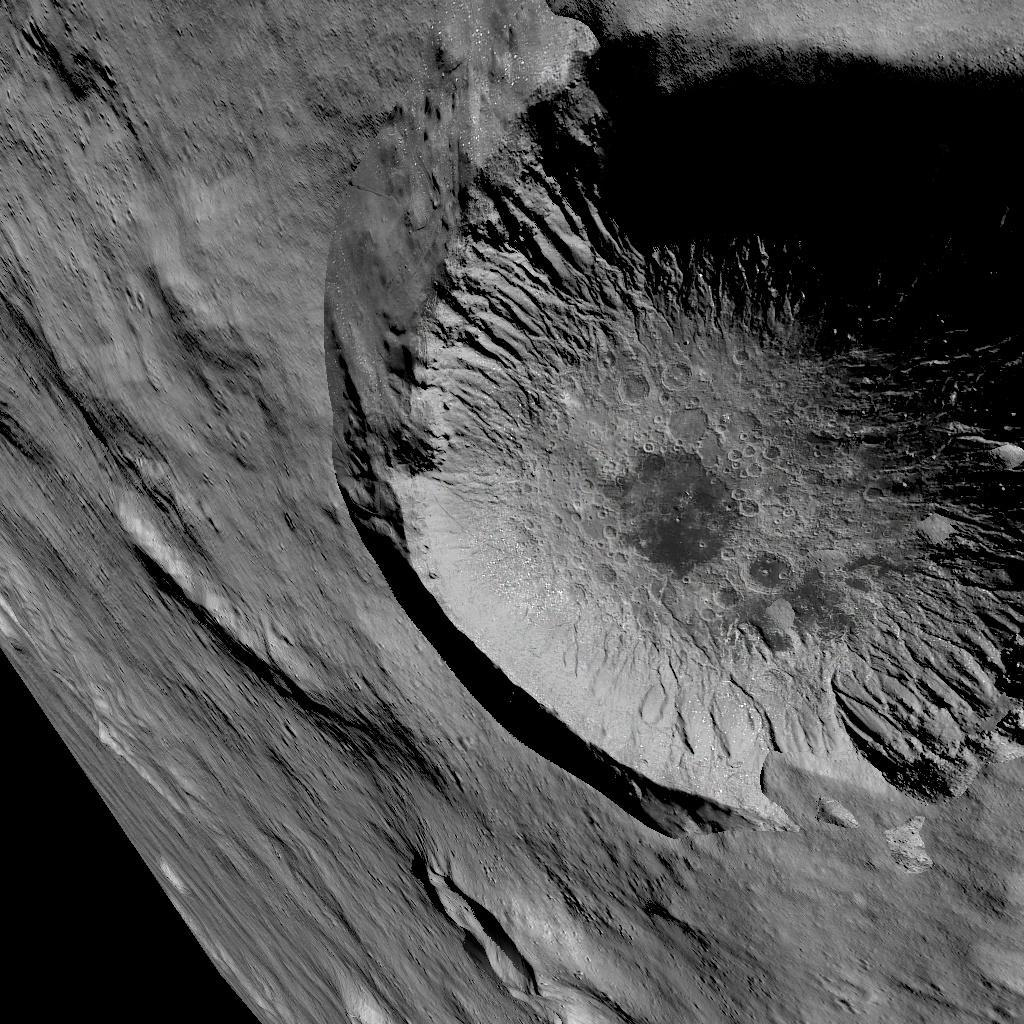Crater: (302, 2, 1024, 816), (392, 850, 564, 1022)
Plan surface: (597, 848, 1024, 1024)
